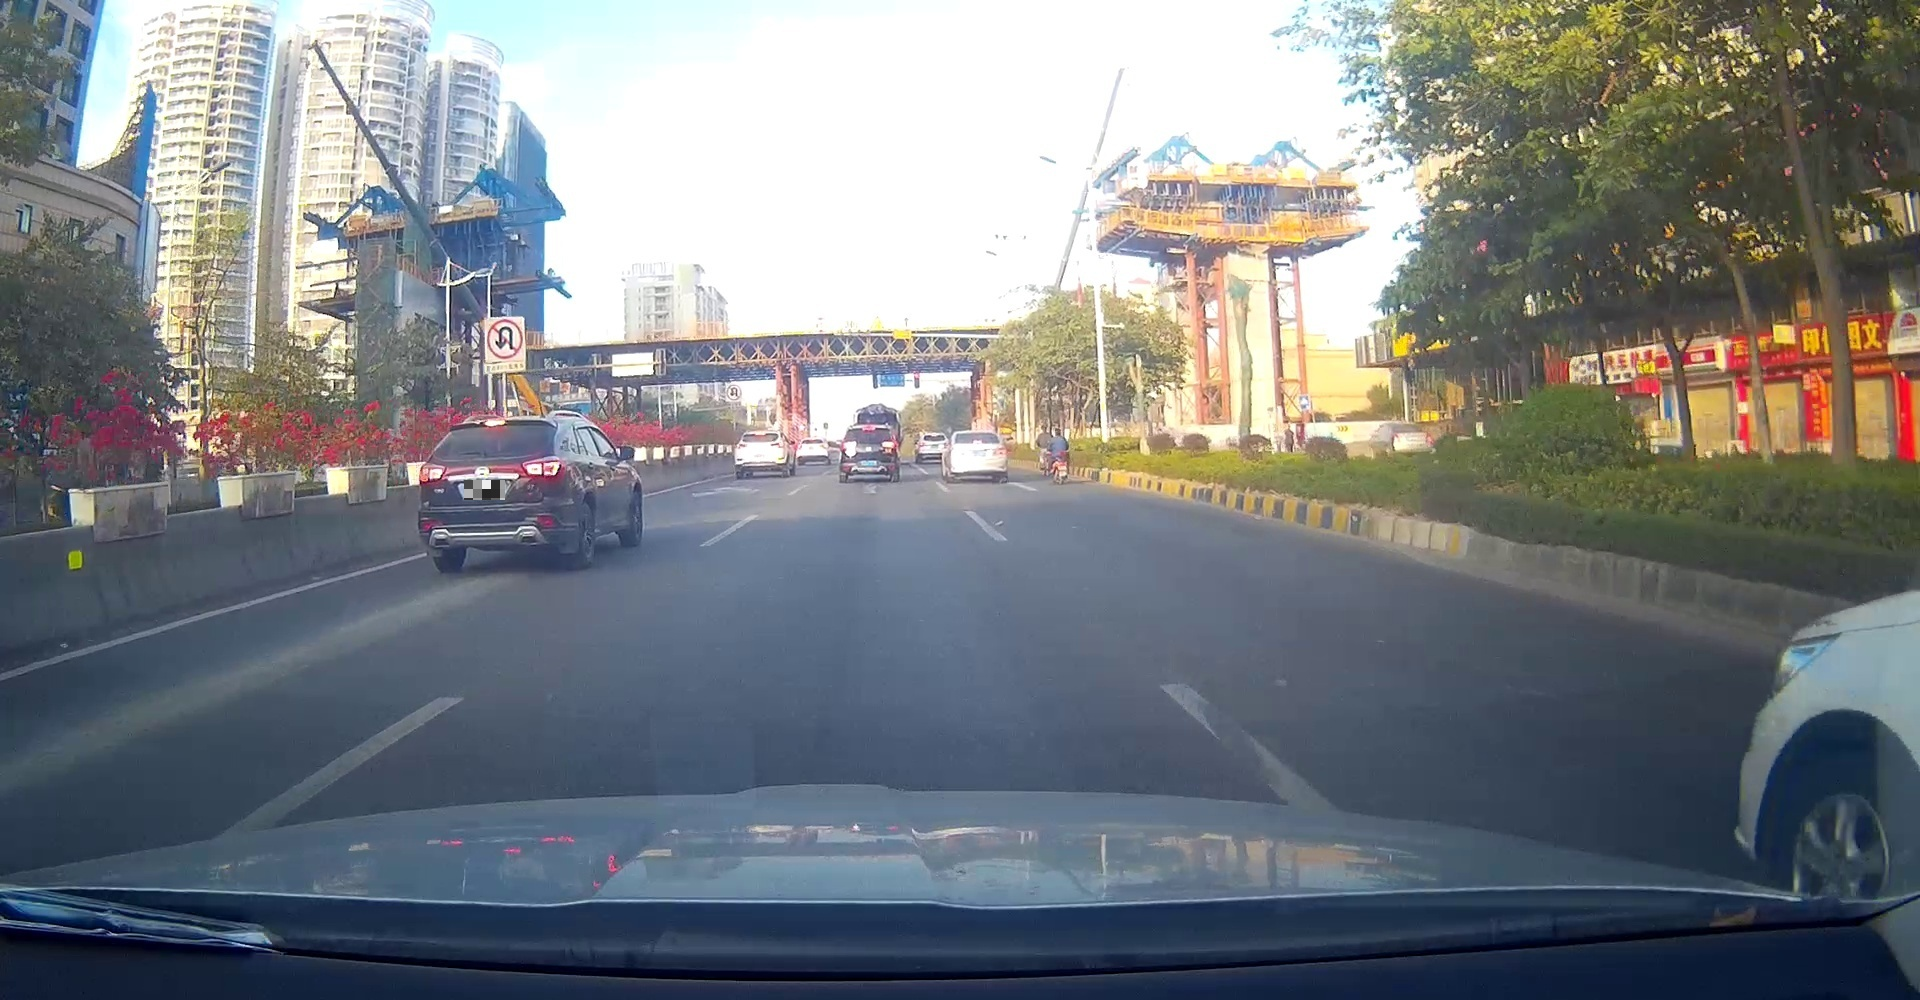L_light: (418, 463, 447, 484), (841, 442, 857, 451), (950, 451, 965, 457), (735, 443, 745, 449)
R_light: (522, 456, 564, 477), (881, 442, 897, 449), (994, 448, 1007, 456), (770, 442, 783, 448)
T_light: (483, 418, 507, 426), (861, 426, 876, 431), (754, 433, 766, 437), (973, 440, 982, 444)
day-brake: (417, 418, 566, 569), (839, 424, 898, 484), (950, 430, 1008, 484), (733, 430, 785, 477)
plate_1: (463, 480, 505, 500)
